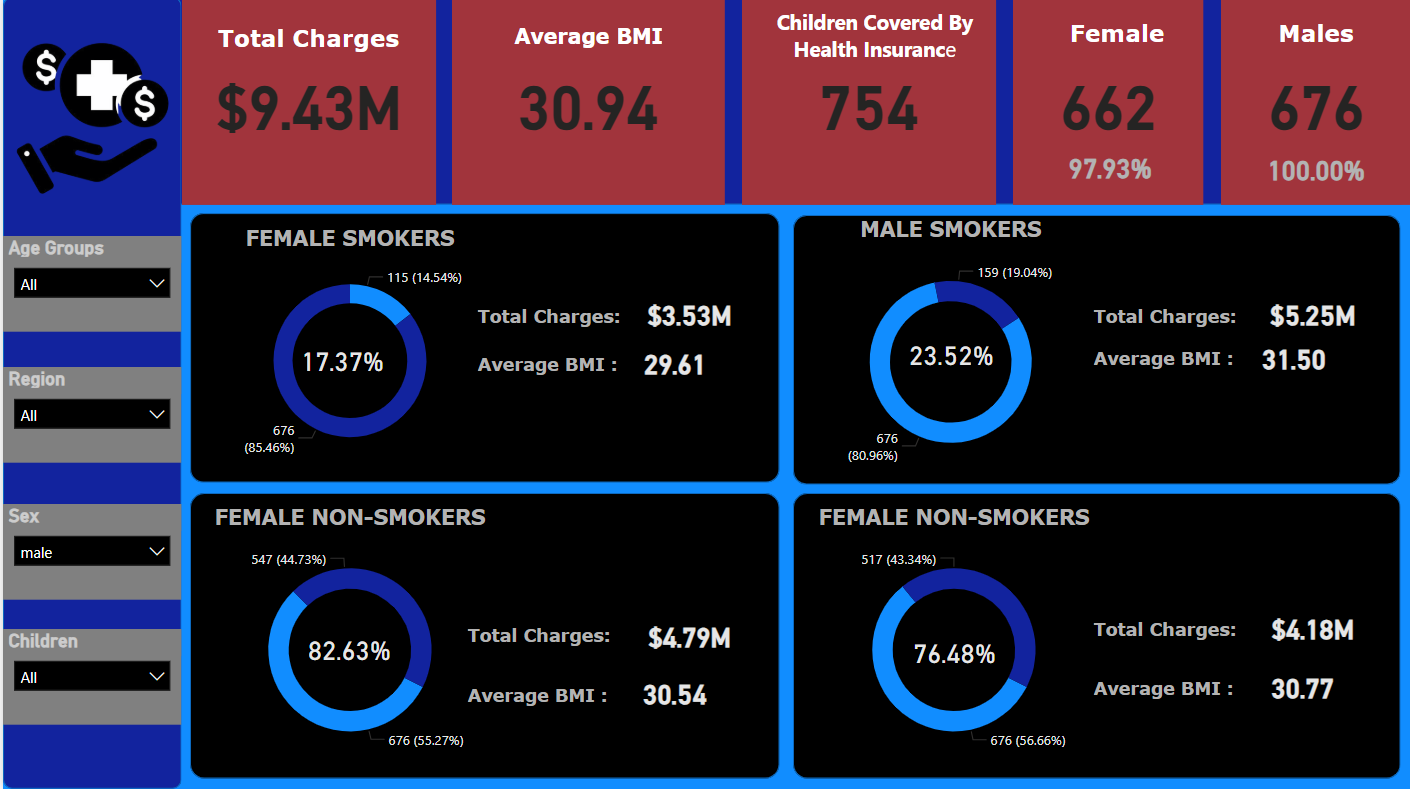

What the dashboard file says about the page in this screenshot:
{"tool":"powerbi","page":{"name":"Smokers Status","canvas":[1280,720],"ordinal":0},"visuals":[{"type":"shape","box":[0,0,1280,188.7],"z":0,"group":"g1"},{"type":"shape","box":[0,0,162.4,719.8],"z":1000,"group":"g1"},{"type":"card","fields":{"Values":["Measures (2).Total Charges"]},"box":[162.4,0,230.5,188.7],"z":2000,"group":"g1"},{"type":"textbox","box":[162.4,19.5,230.5,43.8],"z":3000,"group":"g1"},{"type":"card","fields":{"Values":["Measures (2).Females"]},"box":[918.2,0,173.1,188.7],"z":4000,"group":"g1"},{"type":"textbox","box":[926,14.6,173.1,48.6],"z":5000,"group":"g1"},{"type":"card","fields":{"Values":["Measures (2).males"]},"box":[1106.9,0,173.1,188.7],"z":6000,"group":"g1"},{"type":"textbox","box":[1106.9,14.6,173.1,48.6],"z":7000,"group":"g1"},{"type":"card","fields":{"Values":["Measures (2).children by insurance"]},"box":[672.1,0,230.5,188.7],"z":8000,"group":"g1"},{"type":"textbox","box":[677,4.9,230.5,72.9],"z":9000,"group":"g1"},{"type":"card","fields":{"Values":["Measures (2).Average BMI"]},"box":[408.5,0,248,188.7],"z":10000,"group":"g1"},{"type":"textbox","box":[408.5,19.5,248,48.6],"z":11000,"group":"g1"},{"type":"card","fields":{"Values":["Measures (2).%Female"]},"box":[923,128.4,167.3,53.5],"z":12000,"group":"g1"},{"type":"card","fields":{"Values":["Measures (2).%male"]},"box":[1109.8,130.3,167.3,53.5],"z":13000,"group":"g1"},{"type":"shape","box":[170.2,196.5,535.9,245.1],"z":14000,"group":"g1"},{"type":"card","fields":{"Values":["Measures (2).% female smokers"]},"box":[262.6,309.3,91.4,43.8],"z":15000,"group":"g1"},{"type":"donutChart","title":"FEMALE SMOKERS","fields":{"Y":["Measures (2).female smokers","Measures (2).Total smokers"]},"box":[177,207.2,276.2,223.7],"z":16000,"group":"g1"},{"type":"card","fields":{"Values":["Measures (2).Total charges for female smokers"]},"box":[541.8,269.4,164.4,39.9],"z":17000,"group":"g1"},{"type":"textbox","box":[426,275.3,152.7,34],"z":18000,"group":"g1"},{"type":"textbox","box":[426,319,152.7,34],"z":19000,"group":"g1"},{"type":"shape","box":[717.8,198.4,552.5,245.1],"z":20000,"group":"g1"},{"type":"card","fields":{"Values":["Measures (2).Average BMI for female smokers"]},"box":[515.5,313.2,190.6,39.9],"z":21000,"group":"g1"},{"type":"donutChart","title":"MALE SMOKERS","fields":{"Y":["Measures (2).Total smokers","Measures (2).male smokers"]},"box":[726.6,199.4,270.4,242.2],"z":22000,"group":"g1"},{"type":"card","fields":{"Values":["Measures (2).Total charges for male smokers"]},"box":[1118.5,269.4,144.9,39.9],"z":23000,"group":"g1"},{"type":"card","fields":{"Values":["Measures (2).Average BMI for male smokers"]},"box":[1083.5,309.3,179.9,39.9],"z":24000,"group":"g1"},{"type":"textbox","box":[986.3,313.2,152.7,34],"z":25000,"group":"g1"},{"type":"card","fields":{"Values":["Measures (2).% male smokers"]},"box":[816,303.5,91.4,43.8],"z":26000,"group":"g1"},{"type":"shape","box":[170.2,451.3,535.9,259.7],"z":27000,"group":"g1"},{"type":"shape","box":[717.8,451.3,552.5,259.7],"z":28000,"group":"g1"},{"type":"donutChart","title":"FEMALE NON-SMOKERS","fields":{"Y":["Measures (2).Total smokers","Measures (2).female Non-smokers"]},"box":[177,461,276.2,242.2],"z":29000,"group":"g1"},{"type":"textbox","box":[417.3,565.1,152.7,34],"z":30000,"group":"g1"},{"type":"textbox","box":[417.3,619.6,152.7,34],"z":31000,"group":"g1"},{"type":"card","fields":{"Values":["Measures (2).Total charges for female NON-smokers"]},"box":[541.8,562.2,164.4,39.9],"z":32000,"group":"g1"},{"type":"card","fields":{"Values":["Measures (2).Average BMI for female Non-smokers"]},"box":[515.5,613.7,190.6,39.9],"z":33000,"group":"g1"},{"type":"textbox","box":[986.3,275.3,152.7,34],"z":34000,"group":"g1"},{"type":"donutChart","title":"FEMALE NON-SMOKERS","fields":{"Y":["Measures (2).Total smokers","Measures (2).male Non-smokers"]},"box":[726.6,461,276.2,242.2],"z":35000,"group":"g1"},{"type":"textbox","box":[986.3,560.2,152.7,34],"z":36000,"group":"g1"},{"type":"textbox","box":[986.3,613.7,152.7,34],"z":37000,"group":"g1"},{"type":"card","fields":{"Values":["Measures (2).Total charges for male non-smokers"]},"box":[1118.5,554.4,144.9,39.9],"z":38000,"group":"g1"},{"type":"card","fields":{"Values":["Measures (2).Average BMI for male non-smokers"]},"box":[1099.1,607.9,164.4,39.9],"z":39000,"group":"g1"},{"type":"card","fields":{"Values":["Measures (2).% male non-smokers"]},"box":[819,574.8,91.4,43.8],"z":40000,"group":"g1"},{"type":"card","fields":{"Values":["Measures (2).% female non-smokers"]},"box":[269.4,571.9,91.4,43.8],"z":41000,"group":"g1"},{"type":"slicer","title":"Age Groups","fields":{"Values":["insurance.Age_Group"]},"box":[0,216.9,162.4,86.6],"z":42000,"group":"g1"},{"type":"slicer","title":"Region","fields":{"Values":["insurance.region"]},"box":[0,336.5,162.4,86.6],"z":43000,"group":"g1"},{"type":"slicer","title":"Sex","fields":{"Values":["insurance.sex"]},"box":[0,461,162.4,86.6],"z":44000,"group":"g1"},{"type":"slicer","title":"Children","fields":{"Values":["insurance.children"]},"box":[0,574.8,162.4,86.6],"z":45000,"group":"g1"},{"type":"image","box":[0,31.8,162.7,157.3],"z":45001,"group":"g1"},{"type":"group","id":"g1","title":"Group 1","box":[0,0,1280,719.8],"z":45002}]}

Visuals, with their boxes in screenshot pixels (x1, y1, x2, y2), scaled from the page's 1280x720 canvas onto the 1410x789 screenshot:
shape: {"x1": 0, "y1": 0, "x2": 1409, "y2": 207}
shape: {"x1": 0, "y1": 0, "x2": 179, "y2": 788}
card - Measures (2).Total Charges: {"x1": 179, "y1": 0, "x2": 433, "y2": 207}
textbox: {"x1": 179, "y1": 21, "x2": 433, "y2": 69}
card - Measures (2).Females: {"x1": 1011, "y1": 0, "x2": 1202, "y2": 207}
textbox: {"x1": 1020, "y1": 16, "x2": 1211, "y2": 69}
card - Measures (2).males: {"x1": 1219, "y1": 0, "x2": 1409, "y2": 207}
textbox: {"x1": 1219, "y1": 16, "x2": 1409, "y2": 69}
card - Measures (2).children by insurance: {"x1": 740, "y1": 0, "x2": 994, "y2": 207}
textbox: {"x1": 746, "y1": 5, "x2": 1000, "y2": 85}
card - Measures (2).Average BMI: {"x1": 450, "y1": 0, "x2": 723, "y2": 207}
textbox: {"x1": 450, "y1": 21, "x2": 723, "y2": 75}
card - Measures (2).%Female: {"x1": 1017, "y1": 141, "x2": 1201, "y2": 199}
card - Measures (2).%male: {"x1": 1223, "y1": 143, "x2": 1407, "y2": 201}
shape: {"x1": 187, "y1": 215, "x2": 778, "y2": 484}
card - Measures (2).% female smokers: {"x1": 289, "y1": 339, "x2": 390, "y2": 387}
"FEMALE SMOKERS" donutChart: {"x1": 195, "y1": 227, "x2": 499, "y2": 472}
card - Measures (2).Total charges for female smokers: {"x1": 597, "y1": 295, "x2": 778, "y2": 339}
textbox: {"x1": 469, "y1": 302, "x2": 637, "y2": 339}
textbox: {"x1": 469, "y1": 350, "x2": 637, "y2": 387}
shape: {"x1": 791, "y1": 217, "x2": 1399, "y2": 486}
card - Measures (2).Average BMI for female smokers: {"x1": 568, "y1": 343, "x2": 778, "y2": 387}
"MALE SMOKERS" donutChart: {"x1": 800, "y1": 219, "x2": 1098, "y2": 484}
card - Measures (2).Total charges for male smokers: {"x1": 1232, "y1": 295, "x2": 1392, "y2": 339}
card - Measures (2).Average BMI for male smokers: {"x1": 1194, "y1": 339, "x2": 1392, "y2": 383}
textbox: {"x1": 1086, "y1": 343, "x2": 1255, "y2": 380}
card - Measures (2).% male smokers: {"x1": 899, "y1": 333, "x2": 1000, "y2": 381}
shape: {"x1": 187, "y1": 495, "x2": 778, "y2": 779}
shape: {"x1": 791, "y1": 495, "x2": 1399, "y2": 779}
"FEMALE NON-SMOKERS" donutChart: {"x1": 195, "y1": 505, "x2": 499, "y2": 771}
textbox: {"x1": 460, "y1": 619, "x2": 628, "y2": 657}
textbox: {"x1": 460, "y1": 679, "x2": 628, "y2": 716}
card - Measures (2).Total charges for female NON-smokers: {"x1": 597, "y1": 616, "x2": 778, "y2": 660}
card - Measures (2).Average BMI for female Non-smokers: {"x1": 568, "y1": 673, "x2": 778, "y2": 716}
textbox: {"x1": 1086, "y1": 302, "x2": 1255, "y2": 339}
"FEMALE NON-SMOKERS" donutChart: {"x1": 800, "y1": 505, "x2": 1105, "y2": 771}
textbox: {"x1": 1086, "y1": 614, "x2": 1255, "y2": 651}
textbox: {"x1": 1086, "y1": 673, "x2": 1255, "y2": 710}
card - Measures (2).Total charges for male non-smokers: {"x1": 1232, "y1": 608, "x2": 1392, "y2": 651}
card - Measures (2).Average BMI for male non-smokers: {"x1": 1211, "y1": 666, "x2": 1392, "y2": 710}
card - Measures (2).% male non-smokers: {"x1": 902, "y1": 630, "x2": 1003, "y2": 678}
card - Measures (2).% female non-smokers: {"x1": 297, "y1": 627, "x2": 397, "y2": 675}
"Age Groups" slicer: {"x1": 0, "y1": 238, "x2": 179, "y2": 333}
"Region" slicer: {"x1": 0, "y1": 369, "x2": 179, "y2": 464}
"Sex" slicer: {"x1": 0, "y1": 505, "x2": 179, "y2": 600}
"Children" slicer: {"x1": 0, "y1": 630, "x2": 179, "y2": 725}
image: {"x1": 0, "y1": 35, "x2": 179, "y2": 207}
"Group 1" group: {"x1": 0, "y1": 0, "x2": 1409, "y2": 788}
